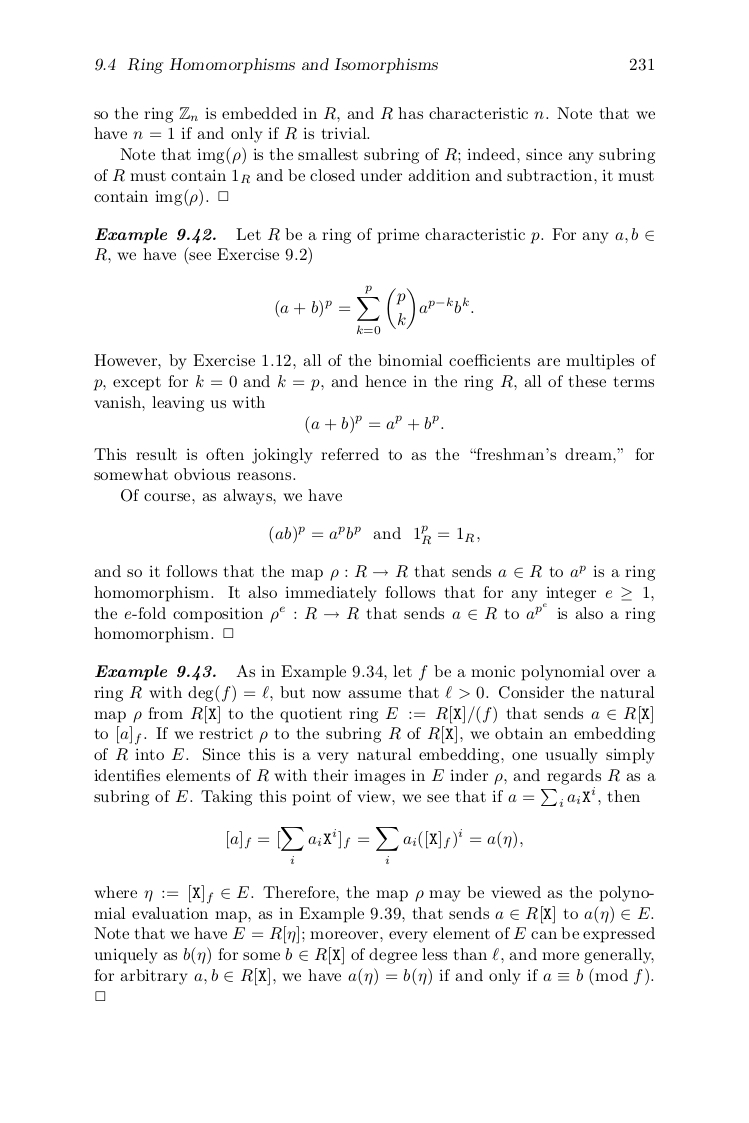formula: (227, 827, 522, 863), (275, 284, 473, 335), (269, 524, 479, 545), (305, 415, 443, 433)
